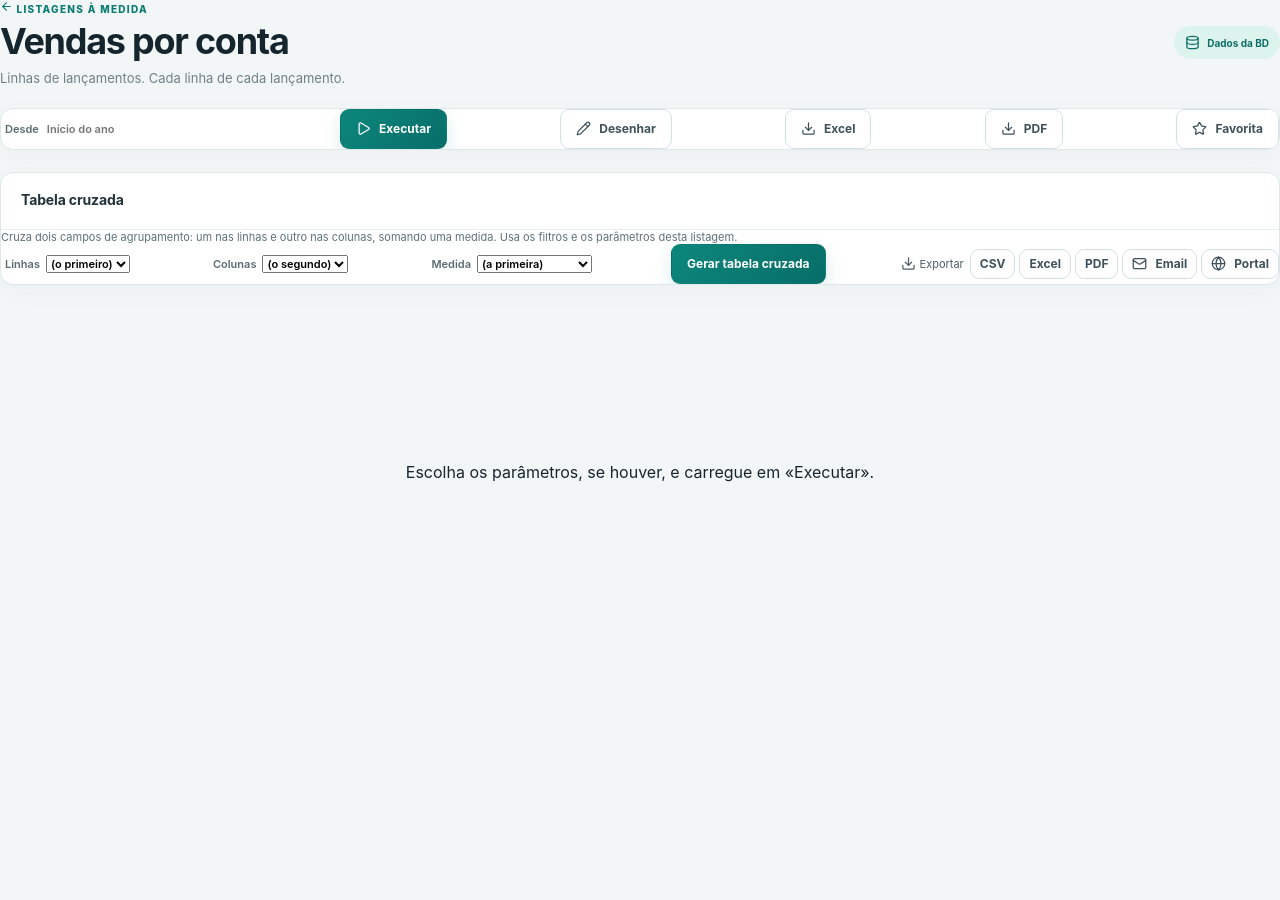
Test: listagens à medida › gera a tabela cruzada com os filtros da listagem e mostra os totais
Expected: the heading "Vendas por conta" is shown, [0,19,289,63]
Select "Conta" in the dropdown named "Campo das linhas": (88, 264) [46,255,130,273]
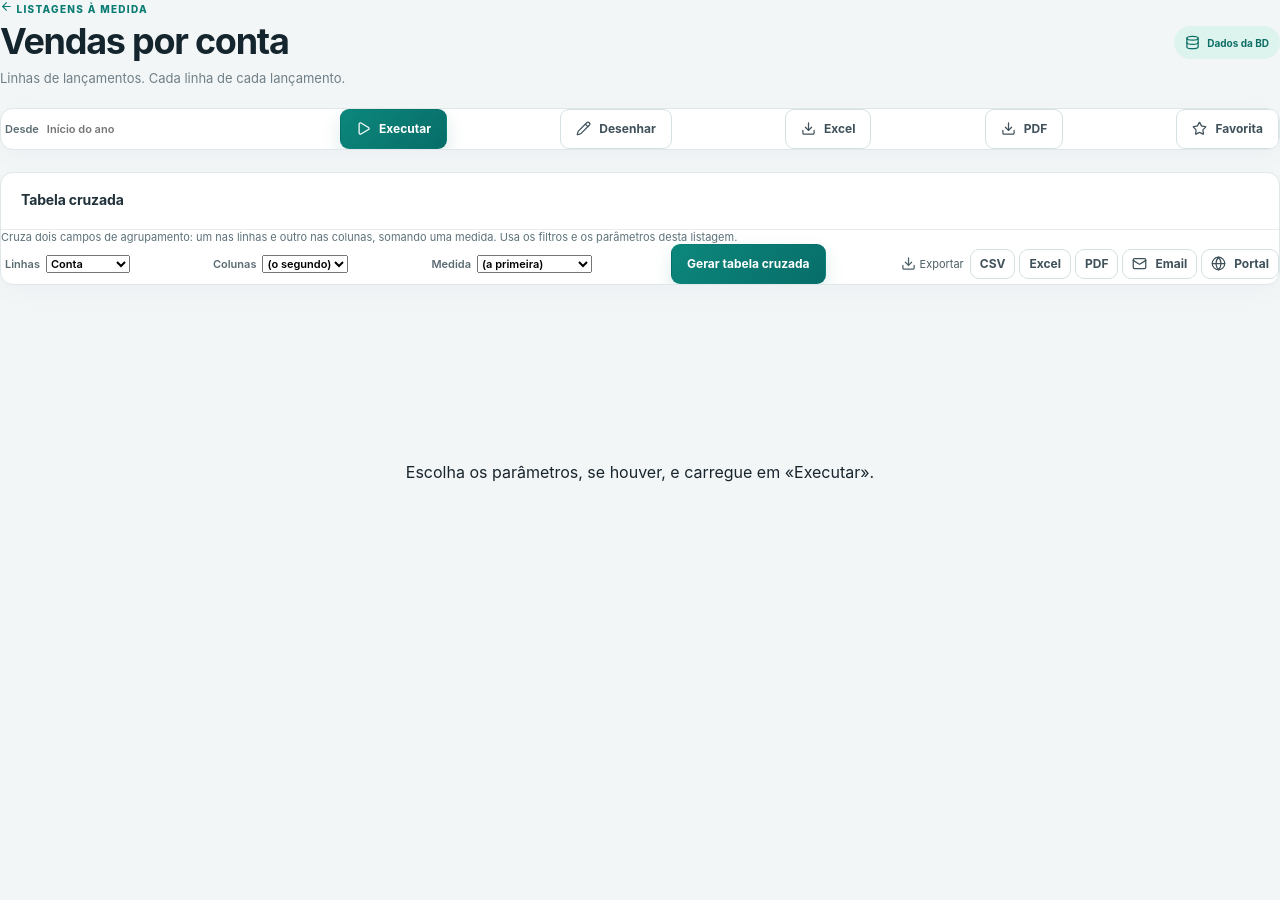
Select "Terceiro" in the dropdown named "Campo das colunas": (305, 264) [262,255,348,273]
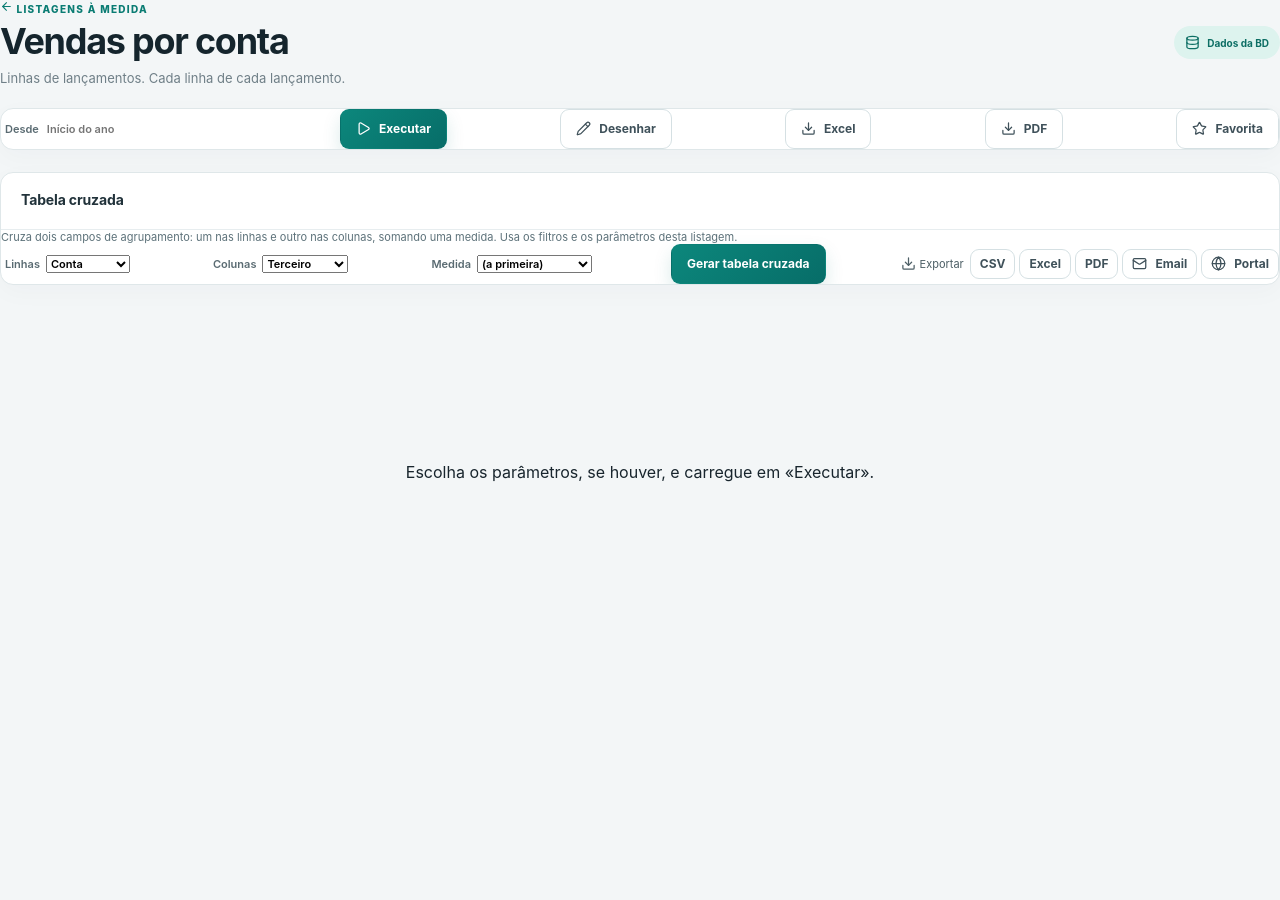
Select "Débito" in the dropdown named "Medida da tabela cruzada": (534, 264) [477,255,592,273]
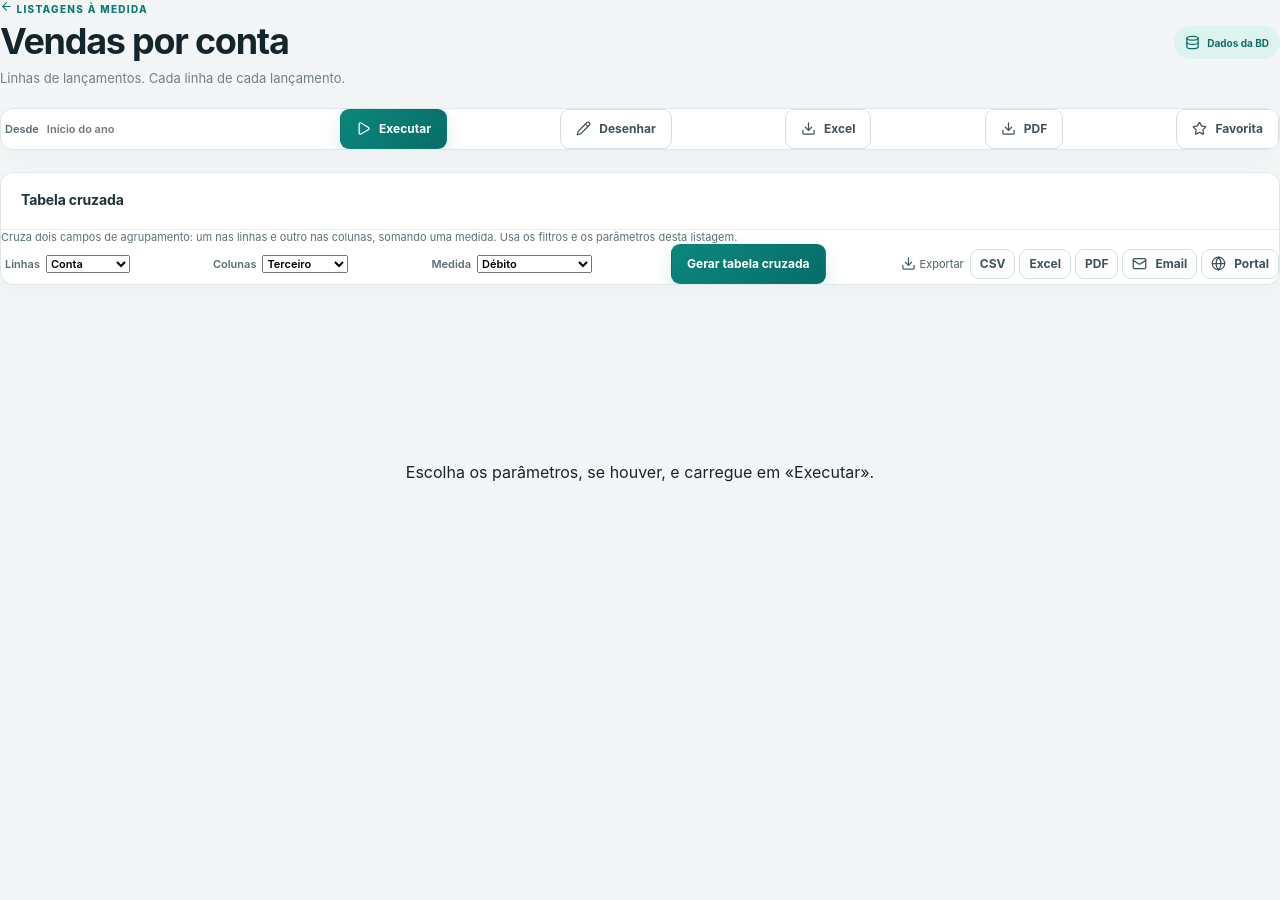
Click the button "Gerar tabela cruzada": (748, 264) [671,244,826,284]
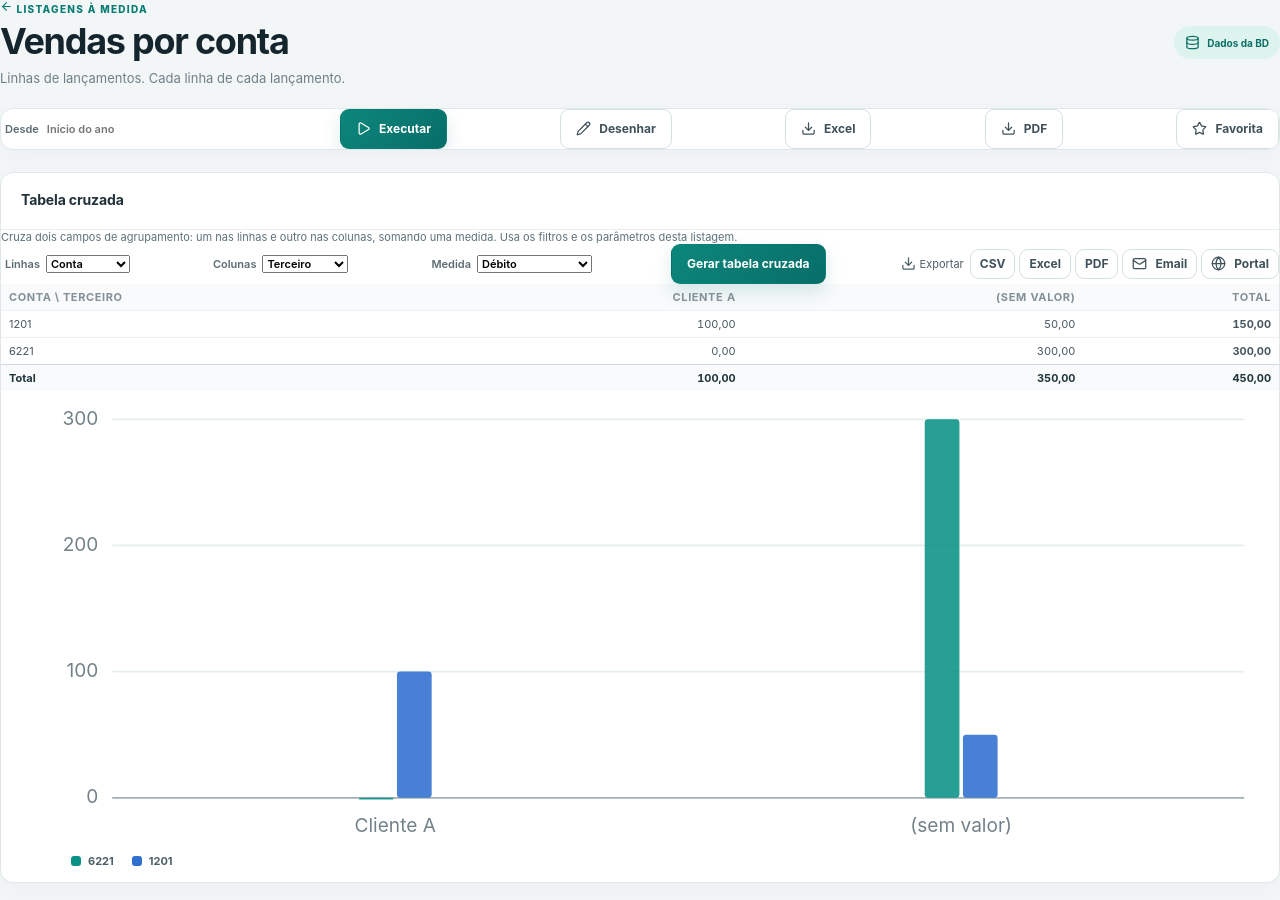
Expected: the table named "Resultado da tabela cruzada" shows "Cliente A", [673,290,736,304]
Expected: the table named "Resultado da tabela cruzada" shows "450,00", [1232,371,1271,385]
